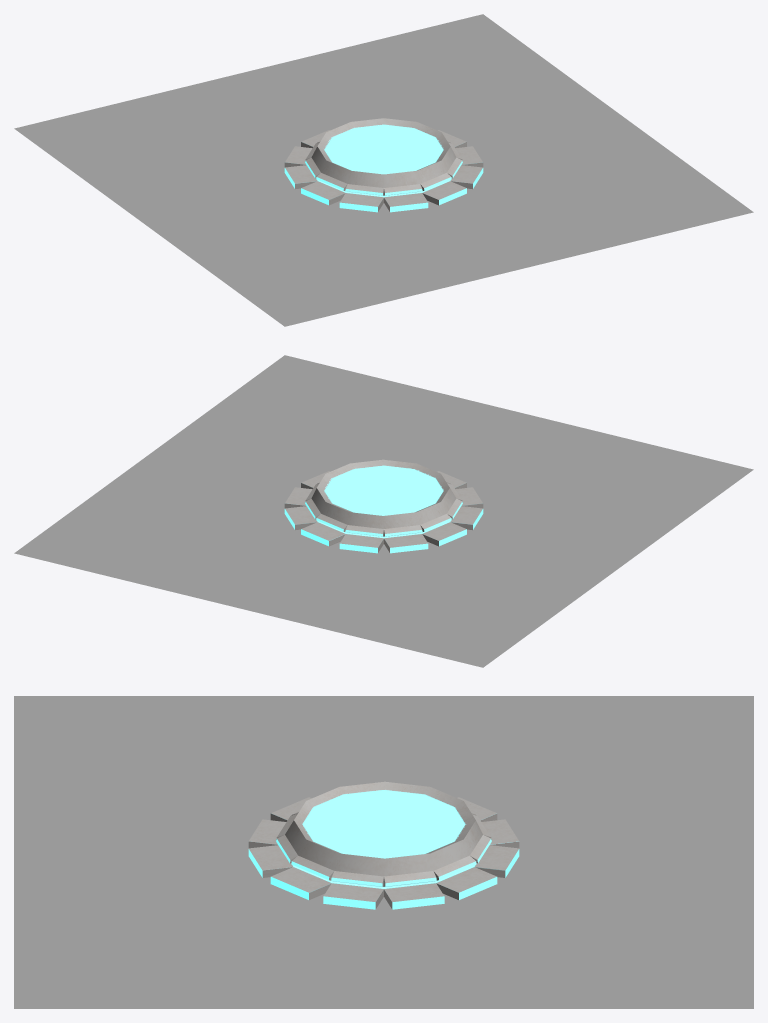
Rendered from SPW0110003.fbx.
3 renders of one model, top to bottom at view 1: azimuth 30°, elevation 25°; view 2: azimuth 150°, elevation 25°; view 3: azimuth 270°, elevation 25°, orthographic. The views are drawn at different scales.
Visible parts, largest first — view 1: smSPW0110003; view 2: smSPW0110003; view 3: smSPW0110003.
Boxes of the visible parts, x1,y1,x2,y2 form: smSPW0110003: [14, 14, 753, 326]; smSPW0110003: [14, 355, 753, 667]; smSPW0110003: [14, 696, 753, 1008].
Bounding box in the file's own units: 497 × 24.64 × 497.
Materials: 2 (1 with a texture image).
